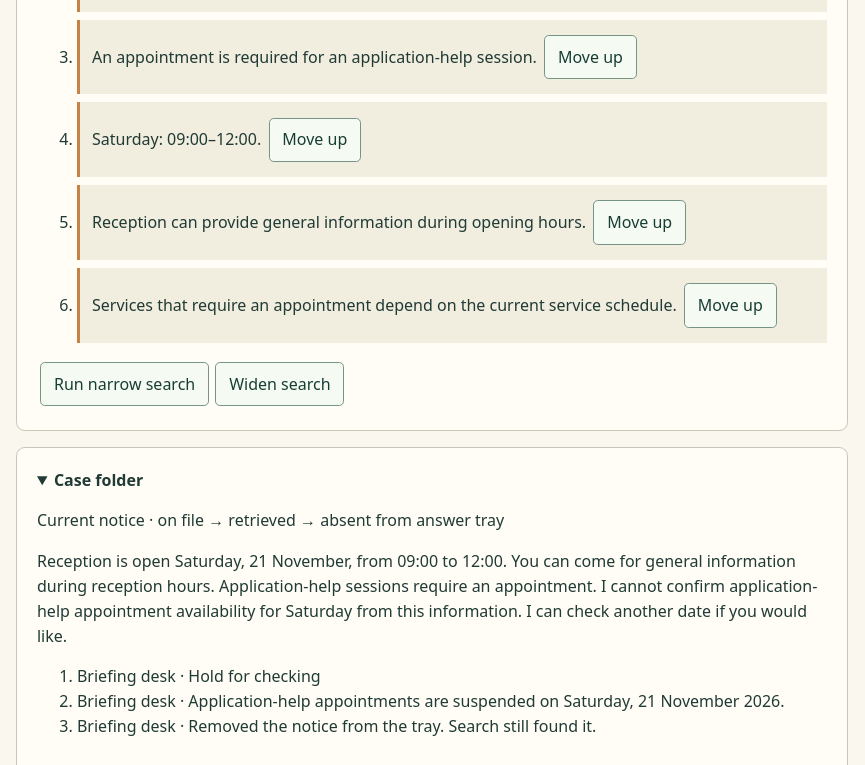
it: folder survives independent room mounts and distinguishes a search miss
Earlier steps of the test are not shown.
(page scrolled)
Check: the text "on file → retrieved → absent" is shown, box x1=37 y1=509 x2=504 y2=531
Click the button "Run narrow search" at (125, 384), box x1=40 y1=362 x2=209 y2=406
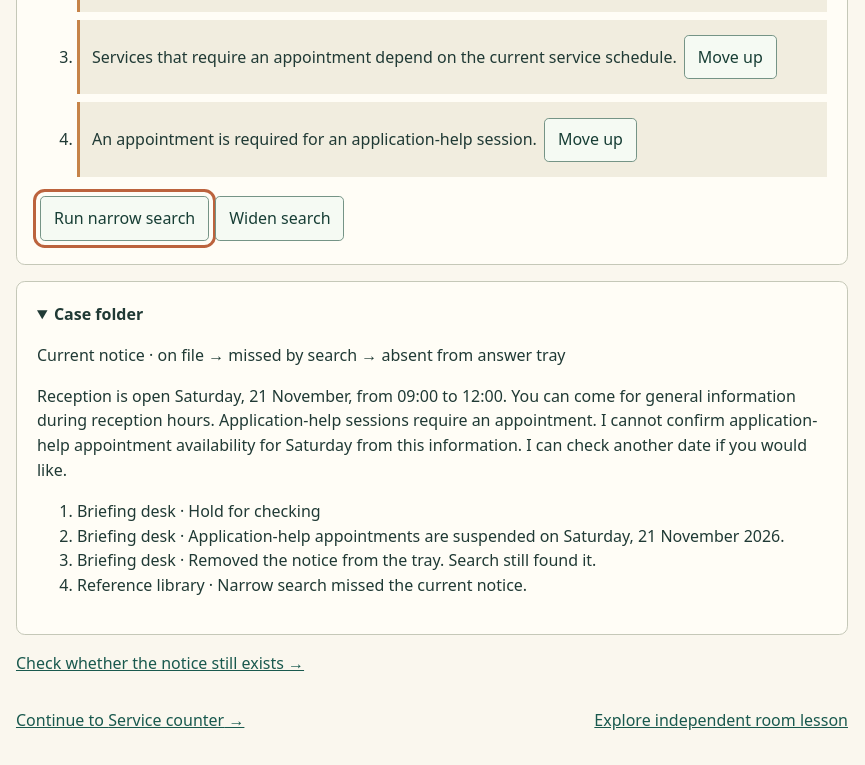
Check: the number of buttons "Move up:" is 4
Click the button with aria-label "Move up:" at (730, 57), box x1=684 y1=35 x2=777 y2=79
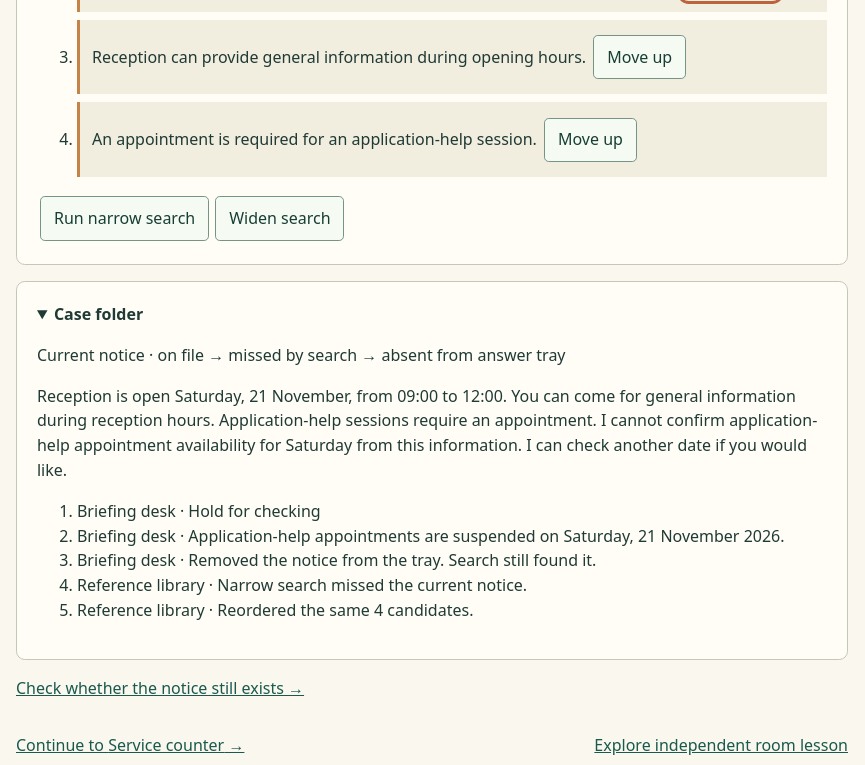
Check: the text "on file → missed by search → absent" is shown, box x1=37 y1=344 x2=566 y2=366
Click the button "Widen search" at (280, 219), box x1=215 y1=196 x2=344 y2=241
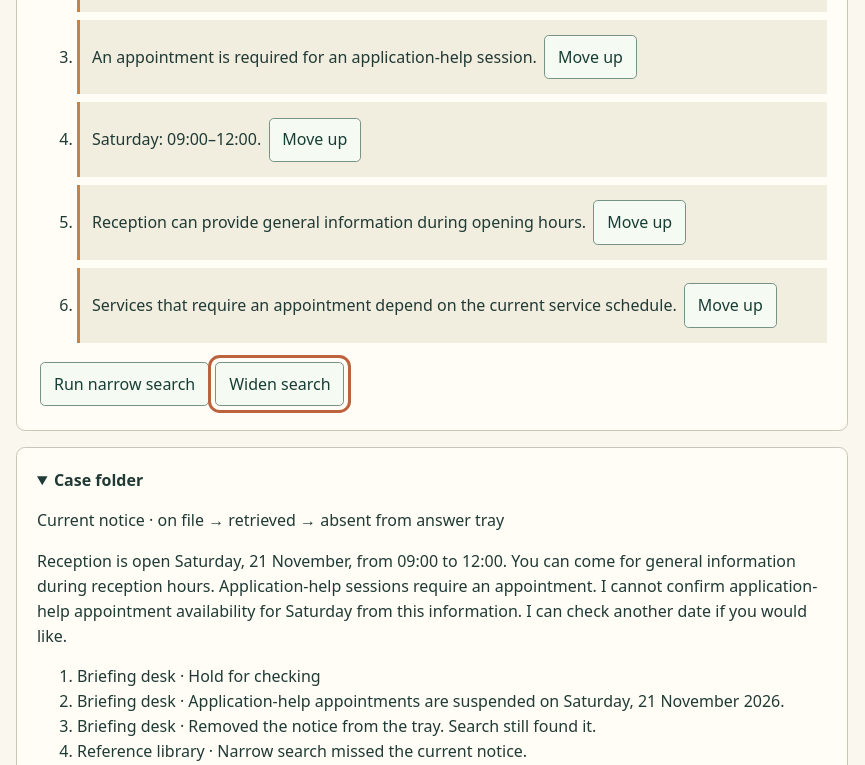
Check: the text "on file → retrieved → absent" is shown, box x1=37 y1=509 x2=504 y2=531
